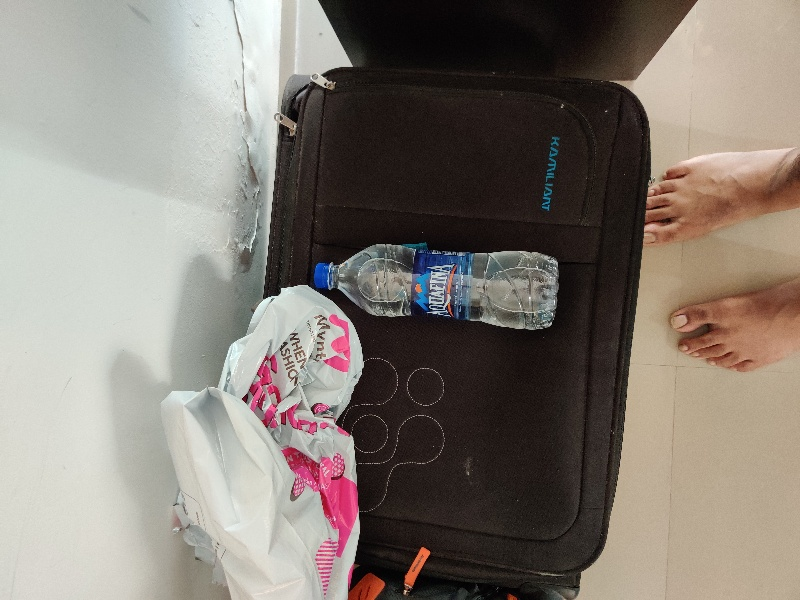bottle: (309, 231, 562, 331)
